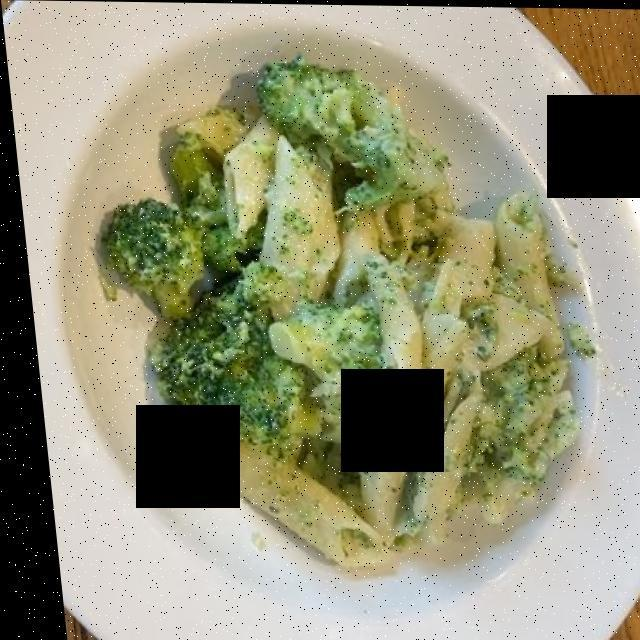broccoli: (88, 52, 550, 467)
pasta: (196, 103, 570, 563)
